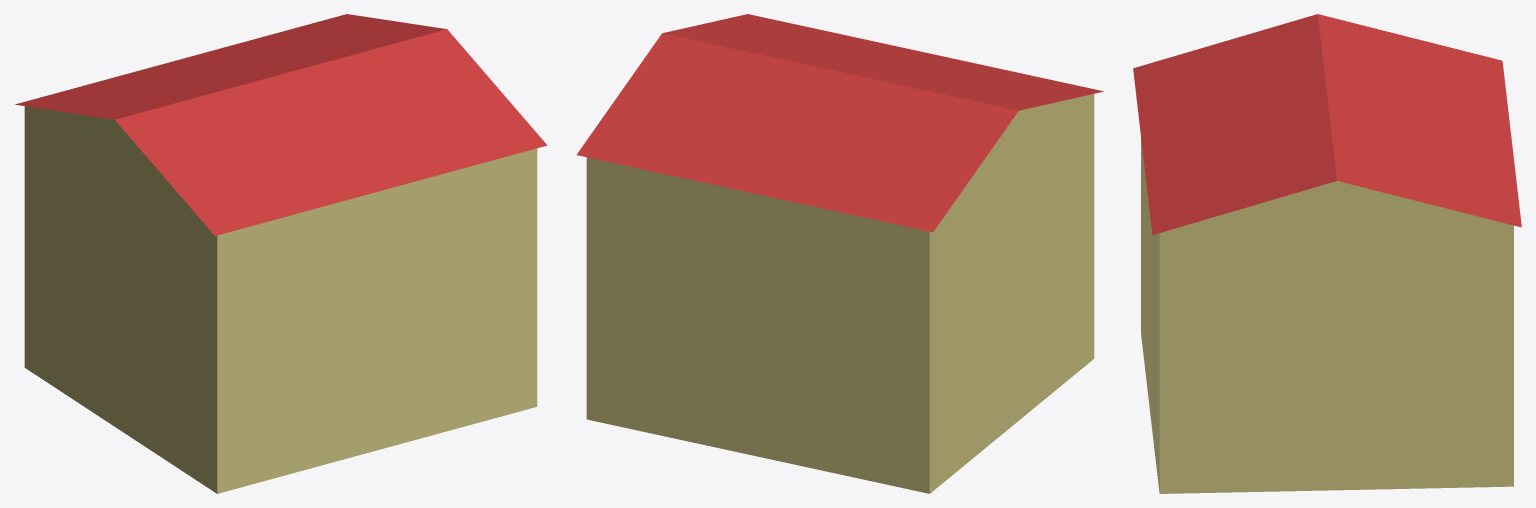
3 renders of one model, left to right at view 1: azimuth 30°, elevation 25°; view 2: azimuth 150°, elevation 25°; view 3: azimuth 270°, elevation 25°, orthographic.
Bounding box in the file's own units: 13.71 × 12.91 × 11.45.
